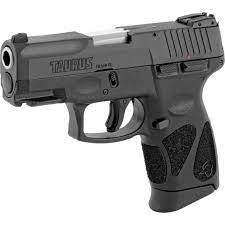gun: (2, 11, 225, 213)
